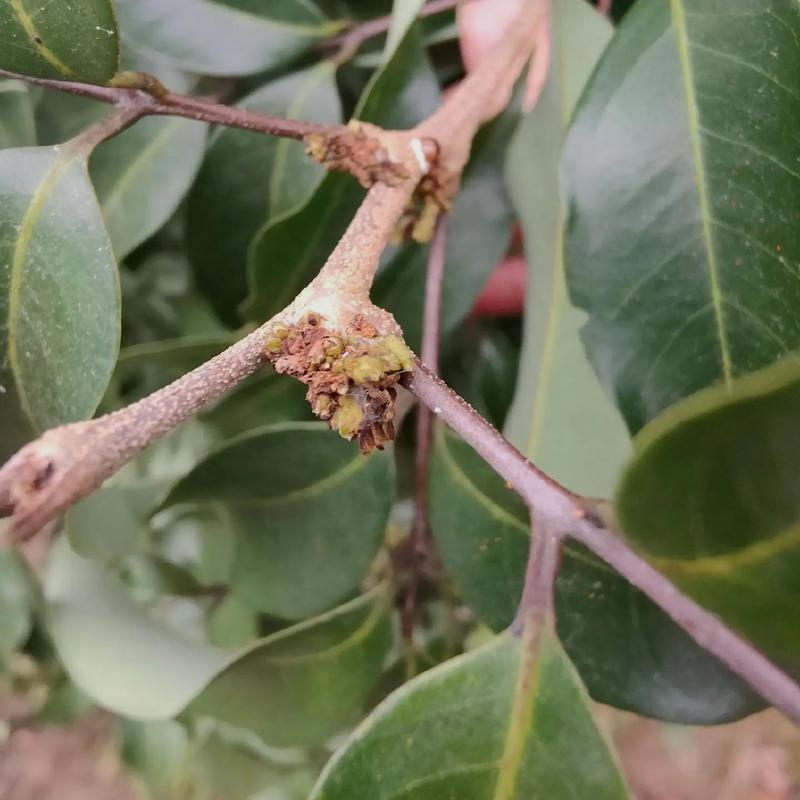Frost_Blight: (252, 85, 451, 443)
